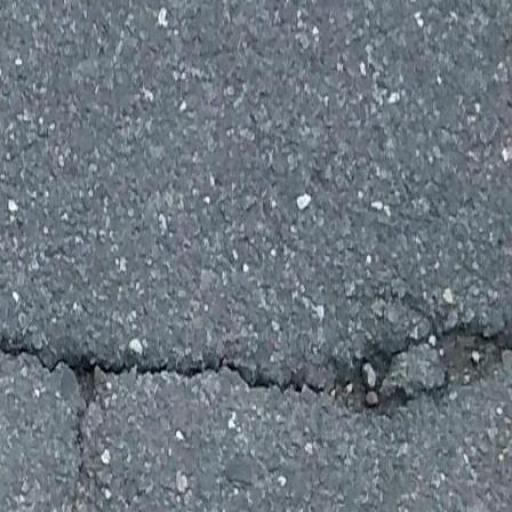spalling: (3, 315, 512, 420)
